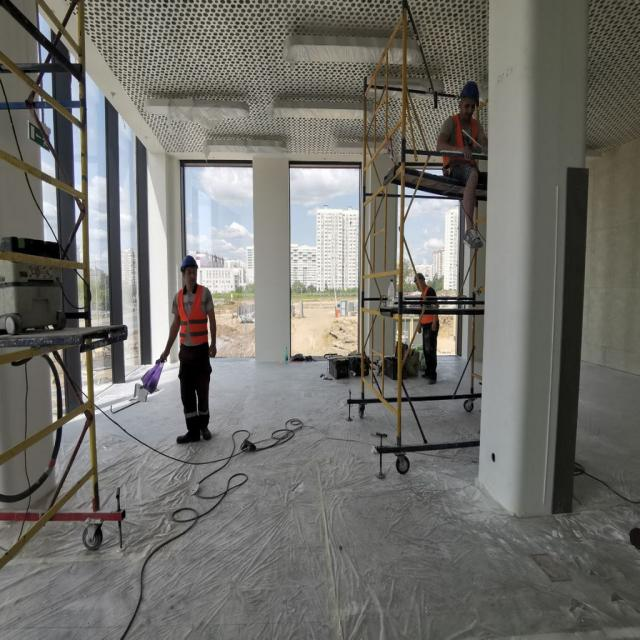Helmet: (460, 83, 480, 121), (181, 256, 200, 289), (414, 274, 427, 294)
Jacket: (448, 115, 482, 169), (181, 285, 206, 350)
